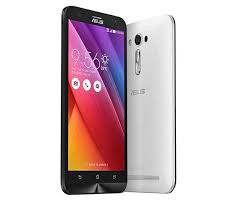asus: (56, 4, 179, 195), (56, 3, 129, 195), (123, 15, 178, 197)
